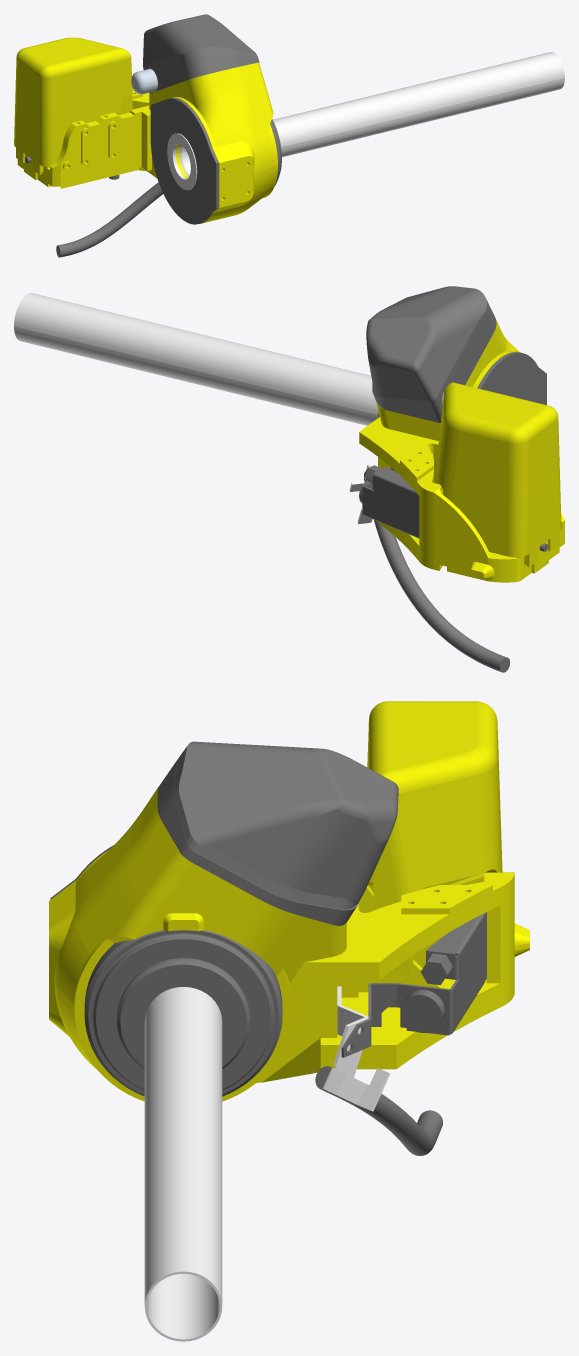
3 renders of one model, top to bottom at view 1: azimuth 30°, elevation 25°; view 2: azimuth 150°, elevation 25°; view 3: azimuth 270°, elevation 25°, orthographic. The views are drawn at different scales.
Visible parts, largest first — view 1: Mesh_0-mesh_5, Mesh_0-mesh, Mesh_0-mesh_1, Mesh_0-mesh_4, Mesh_0-mesh_7; view 2: Mesh_0-mesh, Mesh_0-mesh_1, Mesh_0-mesh_4, Mesh_0-mesh_5; view 3: Mesh_0-mesh, Mesh_0-mesh_5, Mesh_0-mesh_1, Mesh_0-mesh_4, Mesh_0-mesh_3.
Part boxes in pixels (x1,y1,x2,y2): Mesh_0-mesh_5: [17, 62, 277, 223]; Mesh_0-mesh: [25, 14, 281, 257]; Mesh_0-mesh_1: [167, 52, 564, 190]; Mesh_0-mesh_4: [14, 37, 132, 174]; Mesh_0-mesh_7: [131, 68, 157, 94]; Mesh_0-mesh: [359, 286, 547, 672]; Mesh_0-mesh_1: [14, 293, 378, 425]; Mesh_0-mesh_4: [434, 382, 561, 566]; Mesh_0-mesh_5: [359, 317, 564, 582]; Mesh_0-mesh: [50, 741, 486, 1155]; Mesh_0-mesh_5: [49, 786, 529, 1101]; Mesh_0-mesh_1: [144, 987, 222, 1341]; Mesh_0-mesh_4: [367, 701, 502, 975]; Mesh_0-mesh_3: [322, 986, 390, 1111].
Bounding box in the file's own units: 0.8497 × 0.4075 × 0.379.
